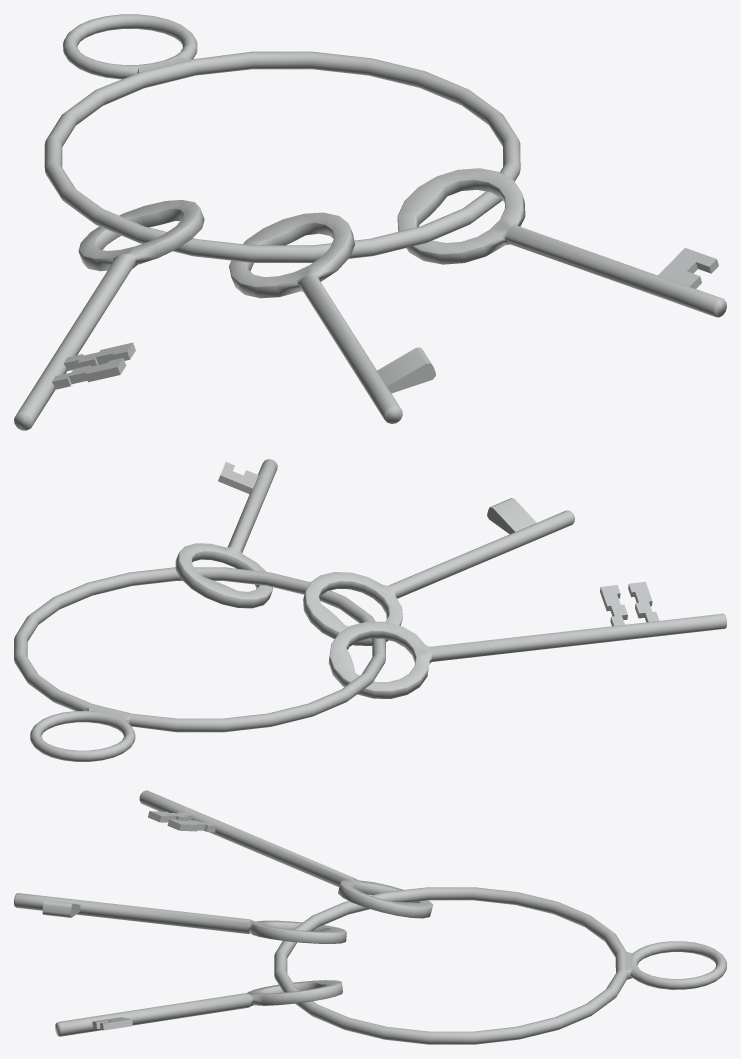
Rendered from cc0_keys.glb.
3 renders of one model, top to bottom at view 1: azimuth 30°, elevation 25°; view 2: azimuth 150°, elevation 25°; view 3: azimuth 270°, elevation 25°, orthographic. The views are drawn at different scales.
Visible parts, largest first — view 1: Key RingLow, Key3Low, Key1Low, Key2Low; view 2: Key RingLow, Key1Low, Key2Low, Key3Low; view 3: Key RingLow, Key1Low, Key2Low, Key3Low.
Part boxes in pixels (x1,y1,x2,y2): Key RingLow: [44, 14, 520, 262]; Key3Low: [397, 168, 726, 317]; Key1Low: [14, 200, 204, 430]; Key2Low: [229, 212, 435, 423]; Key RingLow: [14, 567, 385, 761]; Key1Low: [328, 581, 726, 698]; Key2Low: [303, 498, 574, 645]; Key3Low: [175, 459, 277, 608]; Key RingLow: [274, 887, 726, 1044]; Key1Low: [139, 790, 432, 918]; Key2Low: [14, 893, 346, 943]; Key3Low: [55, 980, 342, 1036].
Size of the model in its own units: 0.1972 by 0.0153 by 0.2412.
4 materials, 4 textured.
